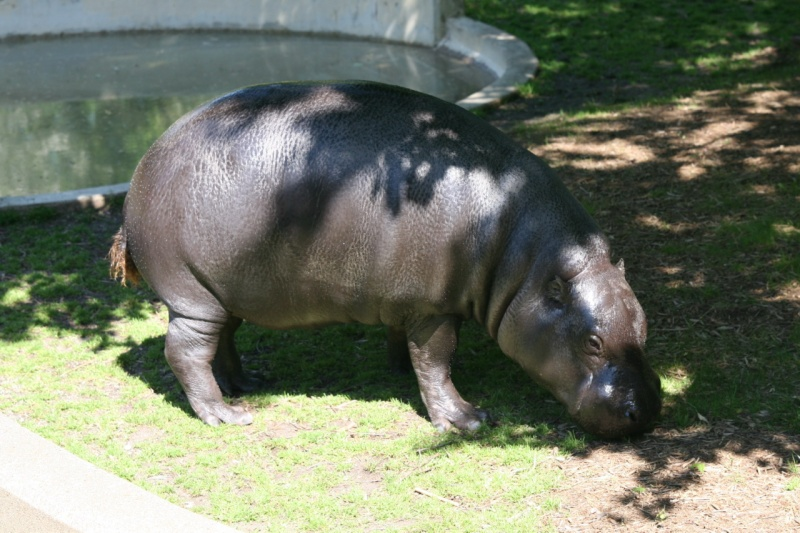hipopotamo: (108, 76, 669, 457)
